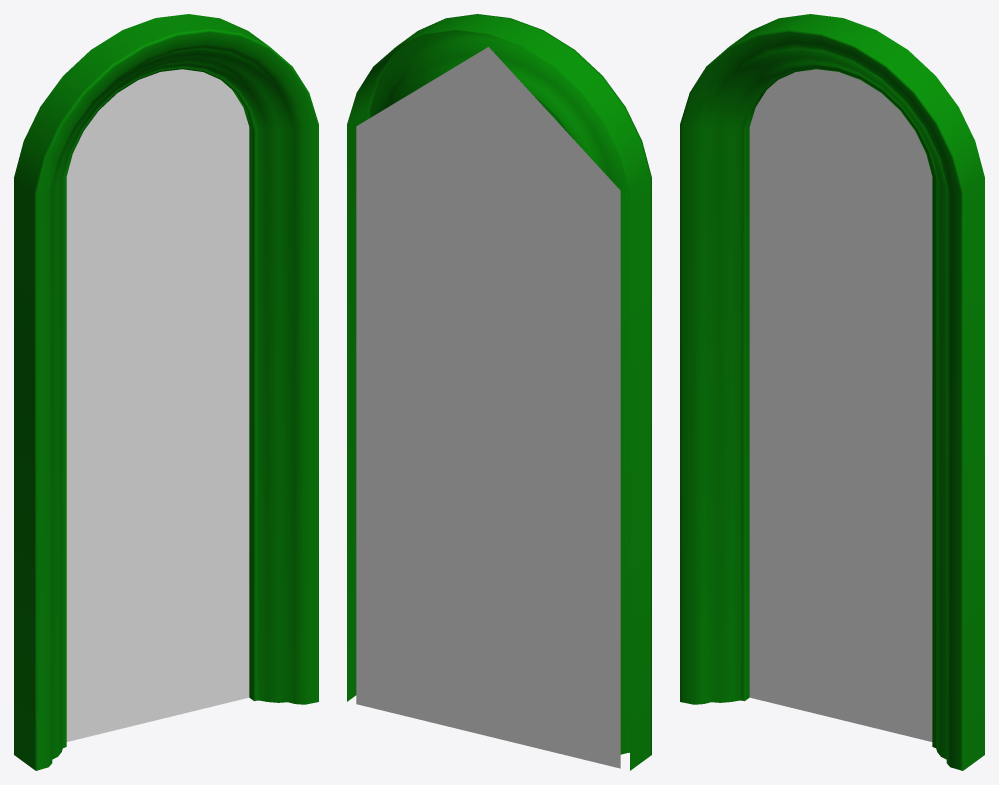
The model's file is SM_BaseWallArchSmallA.fbx.
The picture shows the model from 3 angles, left to right: view 1: azimuth 30°, elevation 25°; view 2: azimuth 150°, elevation 25°; view 3: azimuth 330°, elevation 25°; orthographic projection.
Parts seen in each view (by area): view 1: SM_BaseWallArchSmallA; view 2: SM_BaseWallArchSmallA; view 3: SM_BaseWallArchSmallA.
Part boxes in pixels (x1=…): SM_BaseWallArchSmallA: x1=14, y1=14, x2=318, y2=770; SM_BaseWallArchSmallA: x1=347, y1=14, x2=651, y2=770; SM_BaseWallArchSmallA: x1=680, y1=14, x2=984, y2=770.
Bounding box in the file's own units: 150 × 356 × 20.02.
